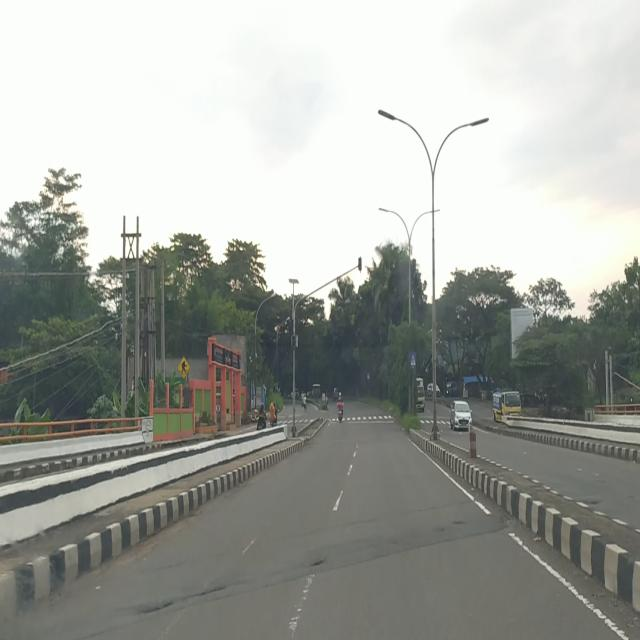Sewer Cover: (292, 495, 472, 540), (129, 578, 237, 614)
